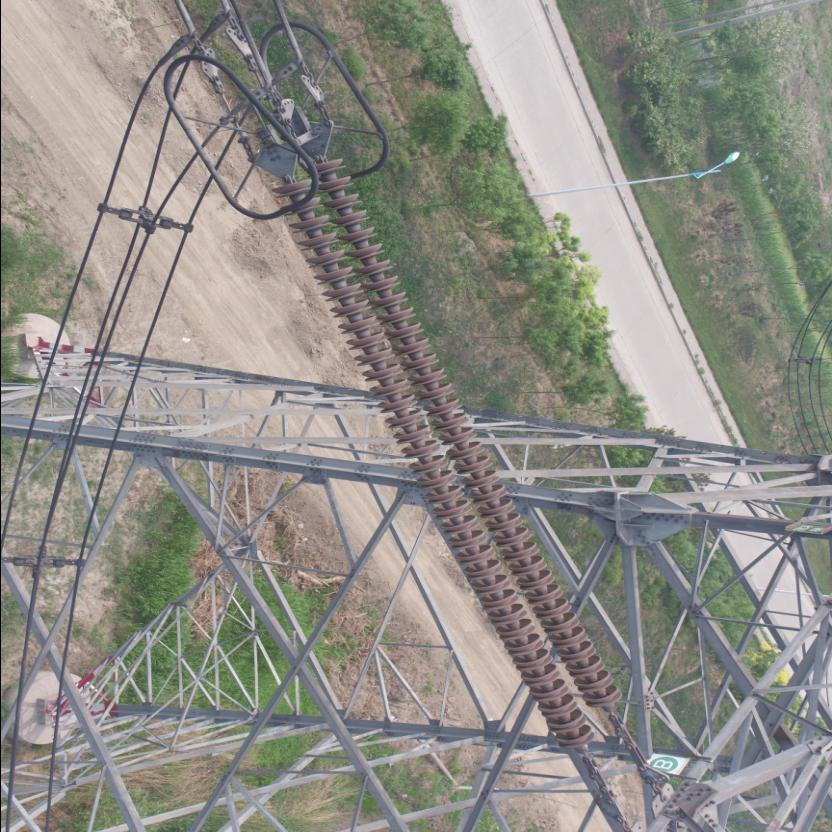insulator: (270, 156, 630, 766)
